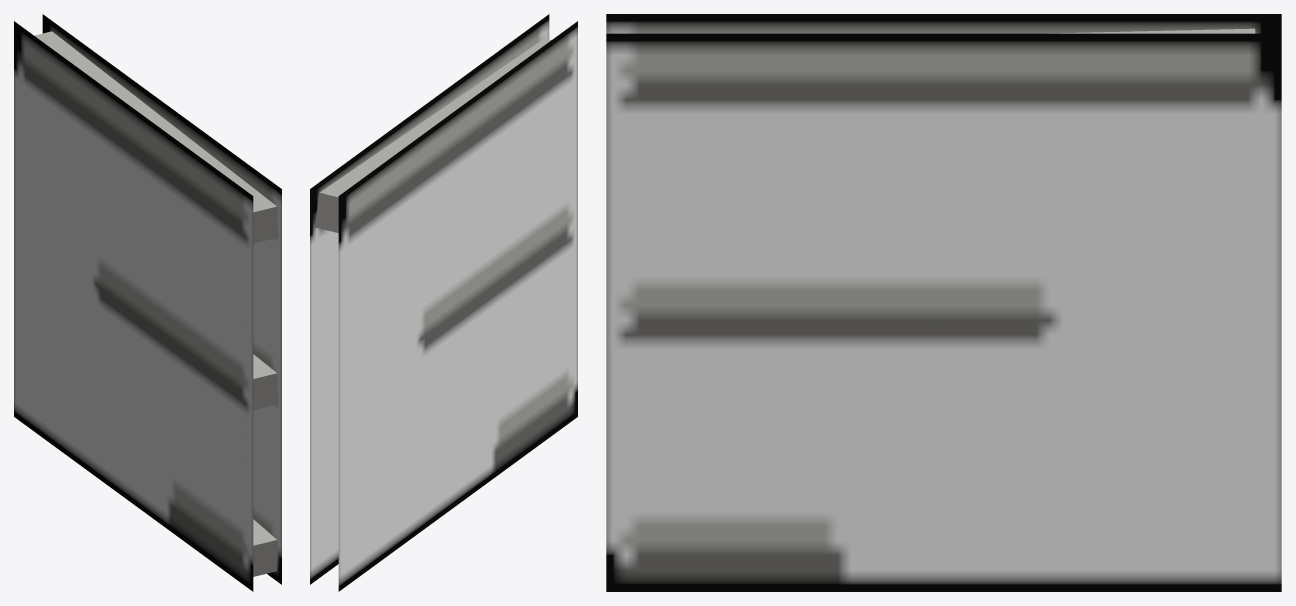
Rendered from pz_native_fixtures_railings_01_69_frame.obj.
The picture shows the model from 3 angles, left to right: view 1: azimuth 30°, elevation 25°; view 2: azimuth 150°, elevation 25°; view 3: azimuth 270°, elevation 25°; orthographic projection. The views are drawn at different scales.
Visible parts, largest first — view 1: pz_native_fixtures_railings_01_69_frame; view 2: pz_native_fixtures_railings_01_69_frame; view 3: pz_native_fixtures_railings_01_69_frame.
Part boxes in pixels (box(x1,y1,x2,y2)): pz_native_fixtures_railings_01_69_frame: box(14, 14, 281, 591); pz_native_fixtures_railings_01_69_frame: box(310, 14, 577, 591); pz_native_fixtures_railings_01_69_frame: box(606, 14, 1281, 591).
Bounding box in the file's own units: 0.045 × 0.5938 × 0.6506.
1 material, 1 textured.
